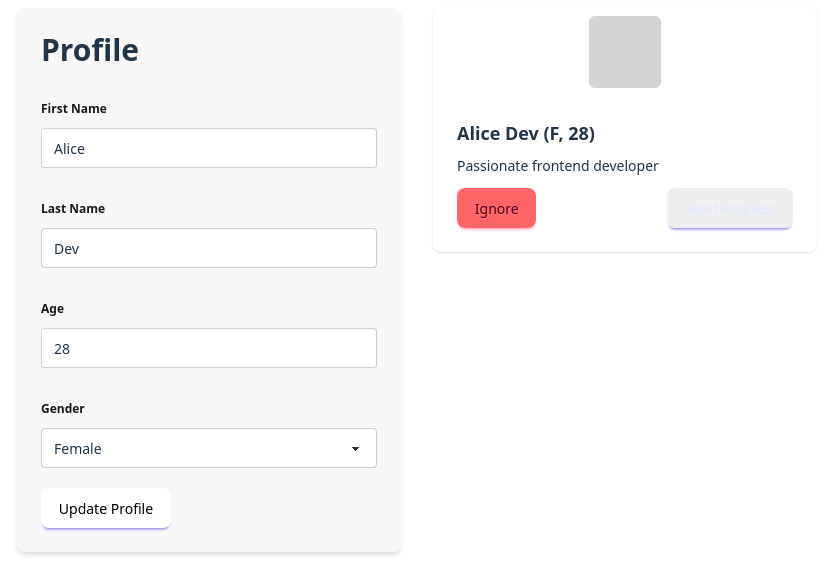
Scenario: Profile – integration › live preview UserCard updates as user edits form fields
The image size is (834, 573).
Replace the text in the field labelled "First Name" with "UpdatedName": (209, 148) [41,128,377,168]
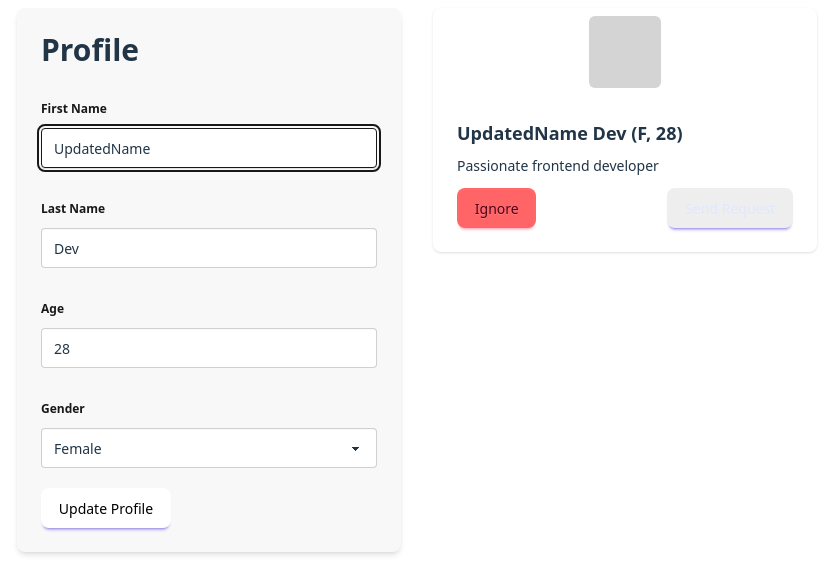
Expected: the heading "UpdatedName Dev (F, 28)" is shown, [457,121,682,145]
